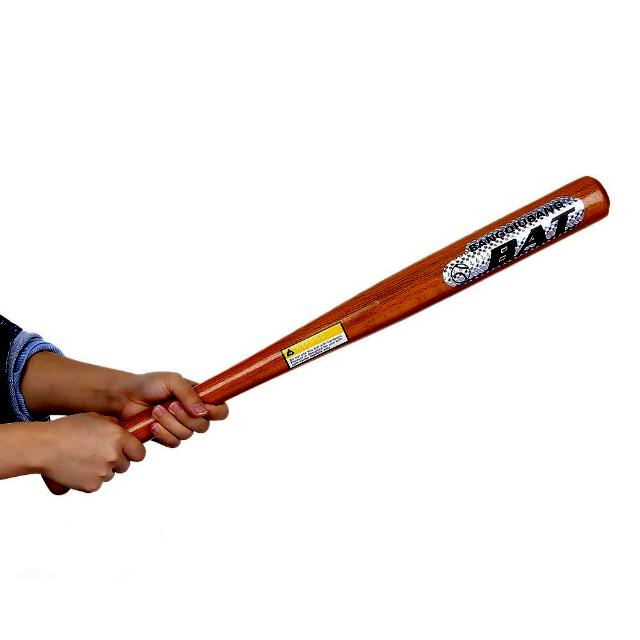baseball bat: (206, 84, 634, 496)
